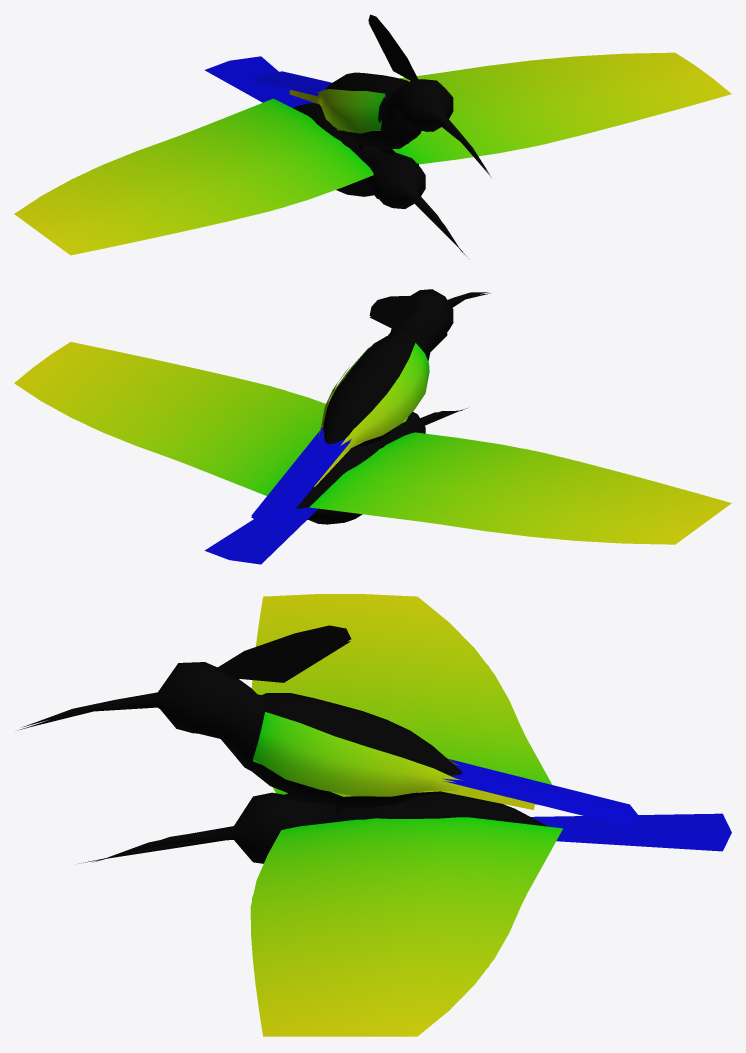
File: hoopoe.glb
3 views of the same model, one above another, from view 1: azimuth 30°, elevation 25°; view 2: azimuth 150°, elevation 25°; view 3: azimuth 270°, elevation 25° (orthographic). The views are drawn at different scales.
Parts seen in each view (by area): view 1: fly0, stand0, stand1, fly1; view 2: fly0, stand0, stand1, fly1; view 3: fly0, stand0, stand1, fly1.
Part boxes in pixels (x1,y1,x2,y2): fly0: [14, 52, 731, 255]; stand0: [252, 14, 489, 183]; stand1: [251, 22, 491, 177]; fly1: [16, 59, 544, 253]; fly0: [14, 342, 731, 564]; stand0: [251, 289, 488, 523]; stand1: [251, 293, 490, 524]; fly1: [91, 389, 730, 561]; fly0: [97, 594, 731, 1036]; stand0: [22, 625, 638, 825]; stand1: [18, 641, 638, 827]; fly1: [93, 664, 731, 1036].
Bounding box in the file's own units: 0.44 × 0.1222 × 0.3035.
